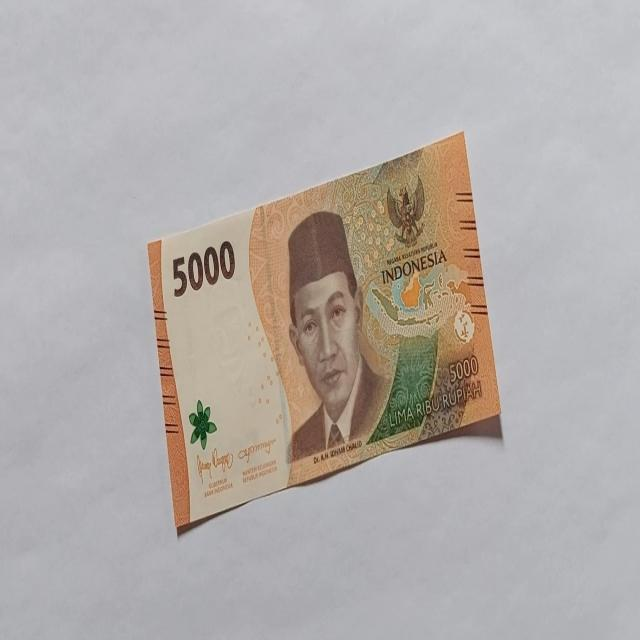lima ribu rupiah: (145, 132, 504, 540), (284, 208, 392, 470)
